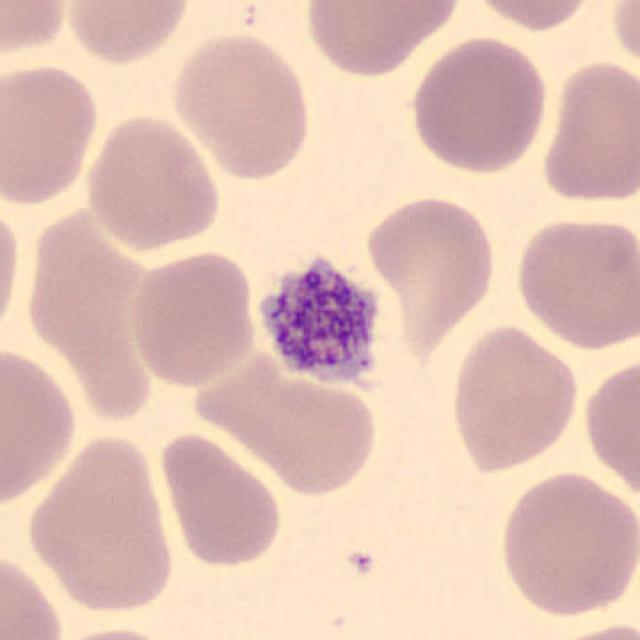Platelets: (249, 245, 391, 400)
RBC: (22, 428, 180, 619), (167, 28, 317, 182), (494, 467, 638, 621), (444, 321, 582, 476), (405, 34, 551, 176), (80, 111, 224, 254), (124, 245, 260, 390), (155, 428, 286, 572), (361, 192, 499, 323), (510, 212, 638, 352), (251, 372, 384, 499), (535, 54, 638, 210), (0, 58, 101, 208), (0, 339, 82, 513), (300, 0, 460, 76), (58, 0, 194, 67), (580, 351, 638, 504), (0, 546, 67, 640), (0, 0, 73, 65), (460, 0, 600, 33), (0, 200, 23, 348), (606, 0, 640, 79), (39, 624, 183, 640), (537, 619, 640, 640)
